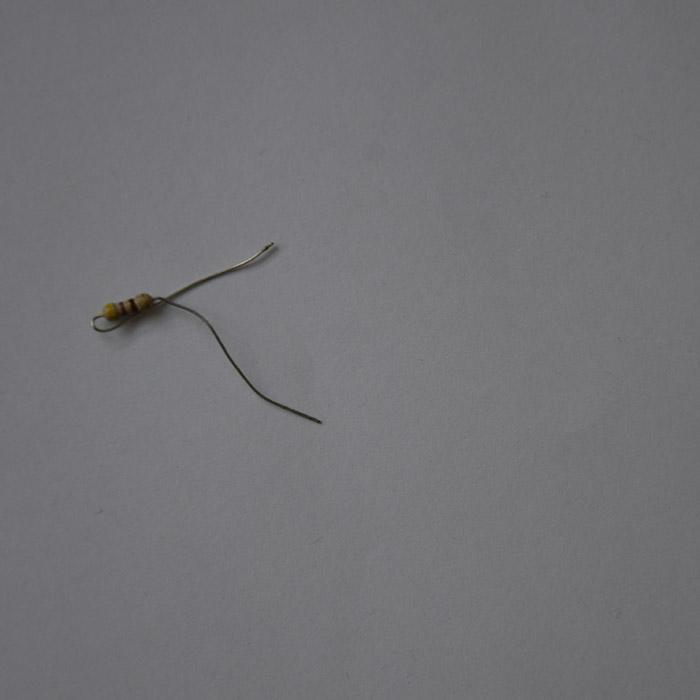resistor: (100, 292, 153, 321)
